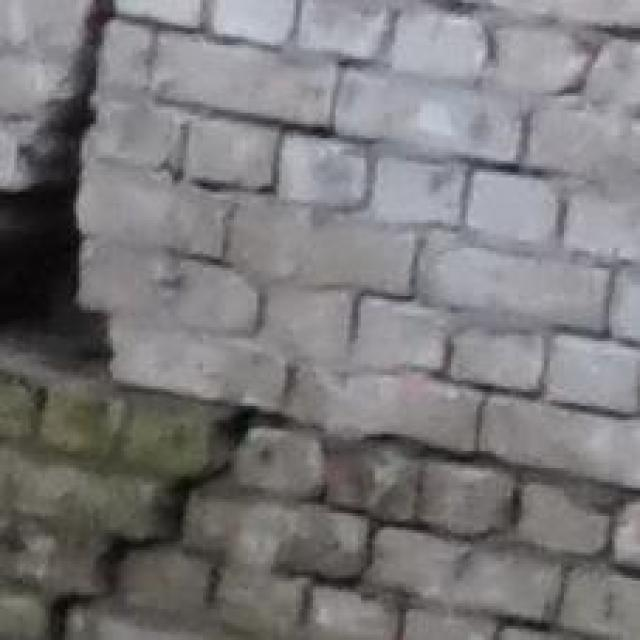Crack: (0, 5, 380, 640)
